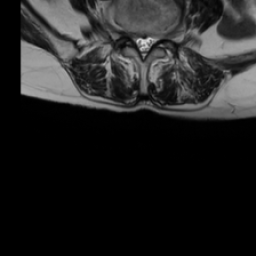CCS_normal: (139, 25, 147, 65)
LFS_normal: (155, 23, 164, 51)
LLS_normal: (147, 28, 155, 51)
RFS_severe_stenosis: (124, 22, 132, 48)
RLS_stenosis: (132, 26, 140, 54)
